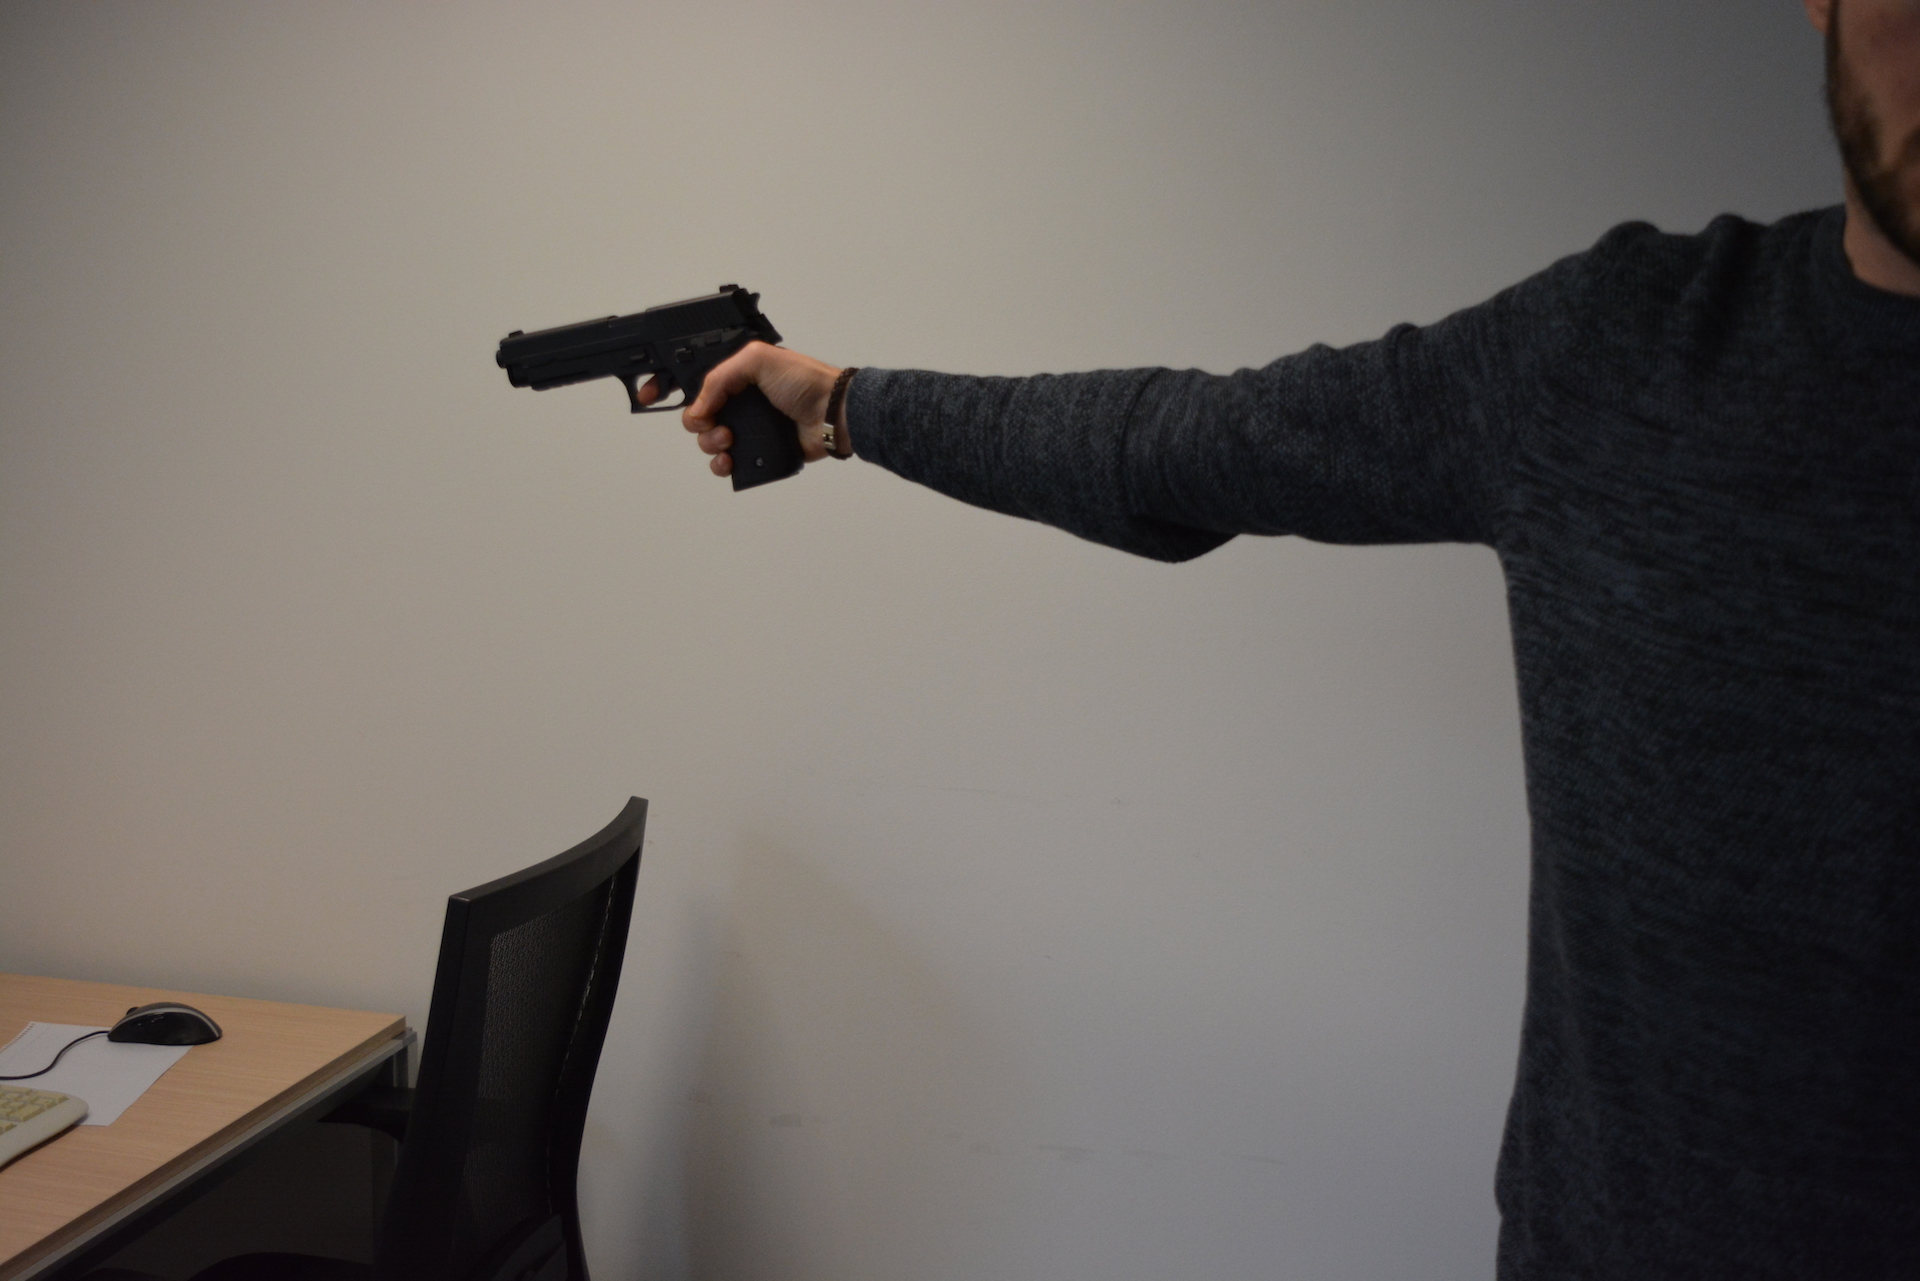pistol: (495, 282, 809, 495)
